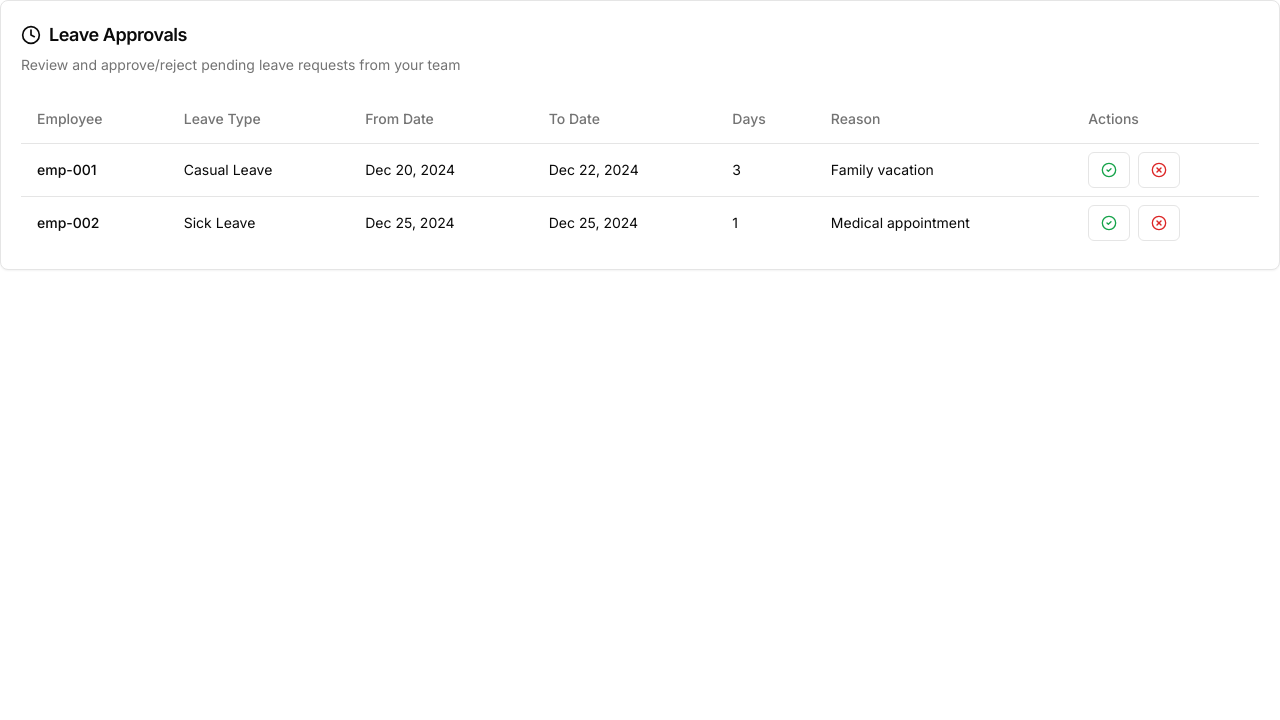
Test: LeaveApprovalPanel Component › Leave Approval › should close dialog after successful approval
The image size is (1280, 720).
Click the 1st button at [1109, 170], box [1088,152,1130,188]
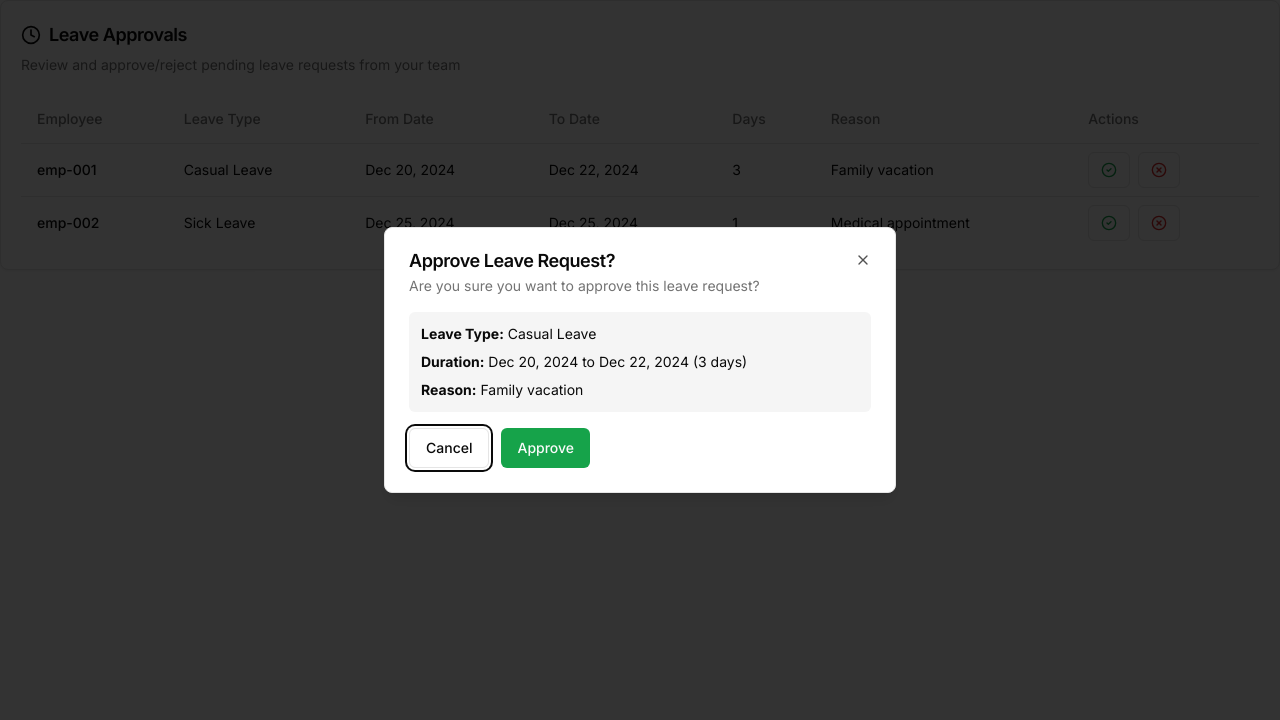
Check: the heading "Approve Leave Request?" is shown, box [409,250,615,271]
Click the button "Approve" at [546, 448], box [502,428,590,468]
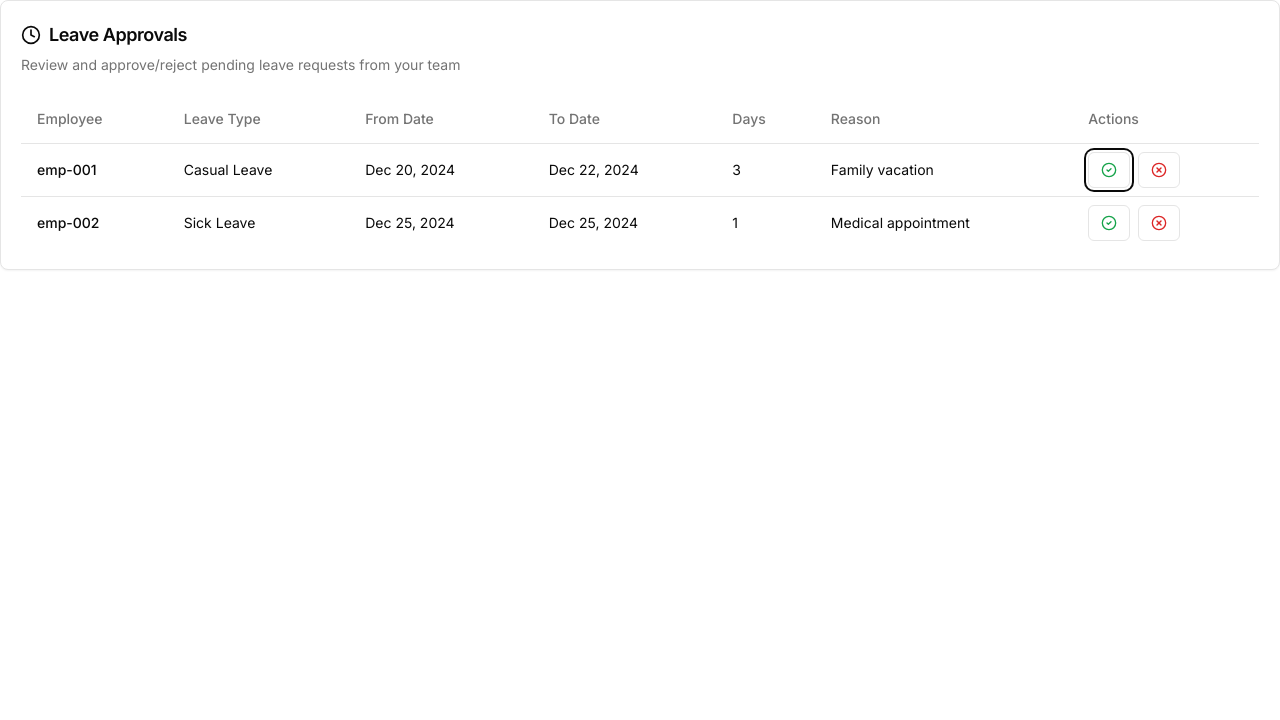
Check: the heading "Approve Leave Request?" is gone
